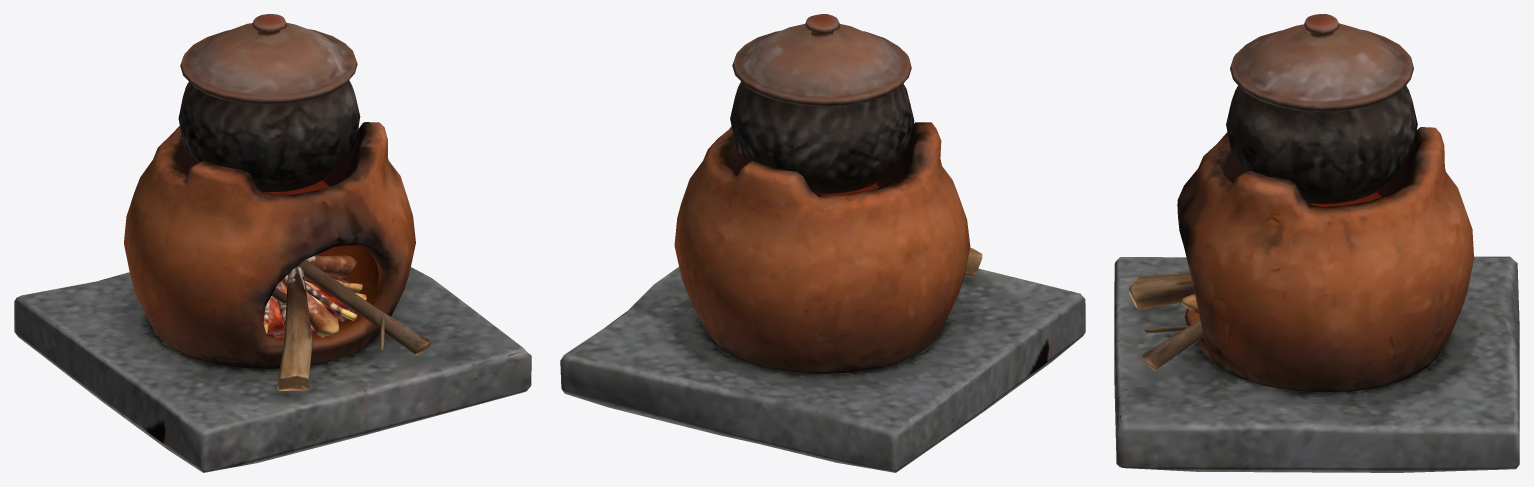
Rendered from kalan.glb.
3 views of the same model, side by side, from view 1: azimuth 30°, elevation 25°; view 2: azimuth 150°, elevation 25°; view 3: azimuth 270°, elevation 25° (orthographic). The views are drawn at different scales.
Visible parts, largest first — view 1: geometry_0; view 2: geometry_0; view 3: geometry_0.
Boxes of the visible parts, <box> form: geometry_0: <box>14,14,531,472</box>; geometry_0: <box>560,14,1085,472</box>; geometry_0: <box>1114,14,1519,472</box>.
Size of the model in its own units: 1 by 0.9991 by 1.
Materials: 1 (1 with a texture image).
